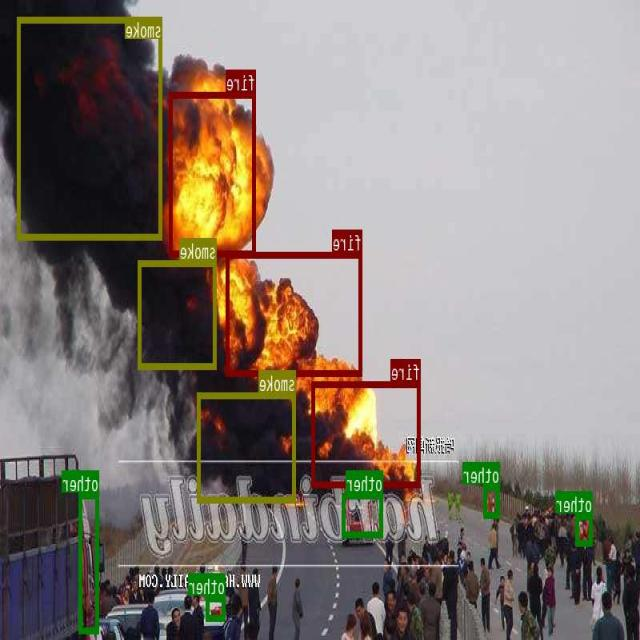fire: (227, 252, 362, 374), (170, 91, 256, 256), (313, 381, 422, 487)
other: (80, 491, 99, 633), (342, 491, 383, 536), (576, 512, 593, 545), (484, 483, 500, 518), (207, 595, 226, 619)
smoke: (18, 16, 163, 239), (198, 391, 296, 502), (139, 260, 217, 368)
